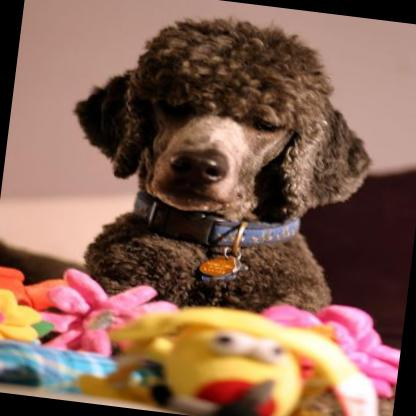toy_poodle: (47, 0, 391, 326)
